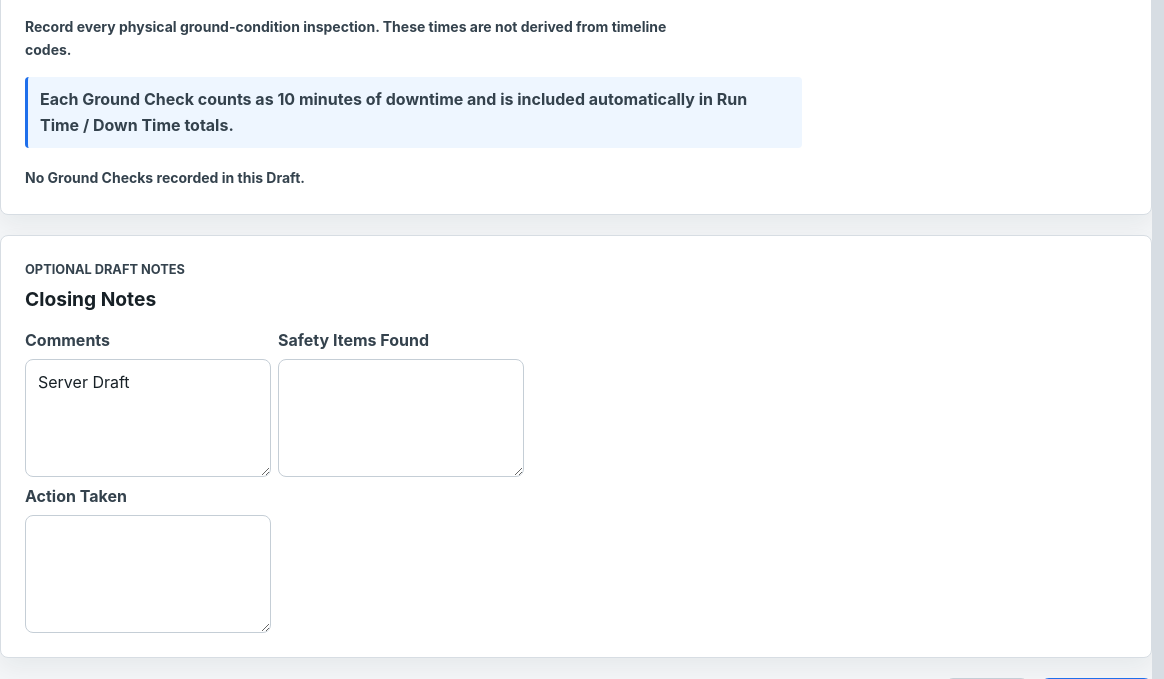
Scenario: DDR autosave and local recovery › debounces a valid server autosave and reports success
(page scrolled)
Replace the text in the text box labelled "Comments" with "Changed once": (148, 418) [25,359,271,477]
Wait 2000 ms
(page scrolled)
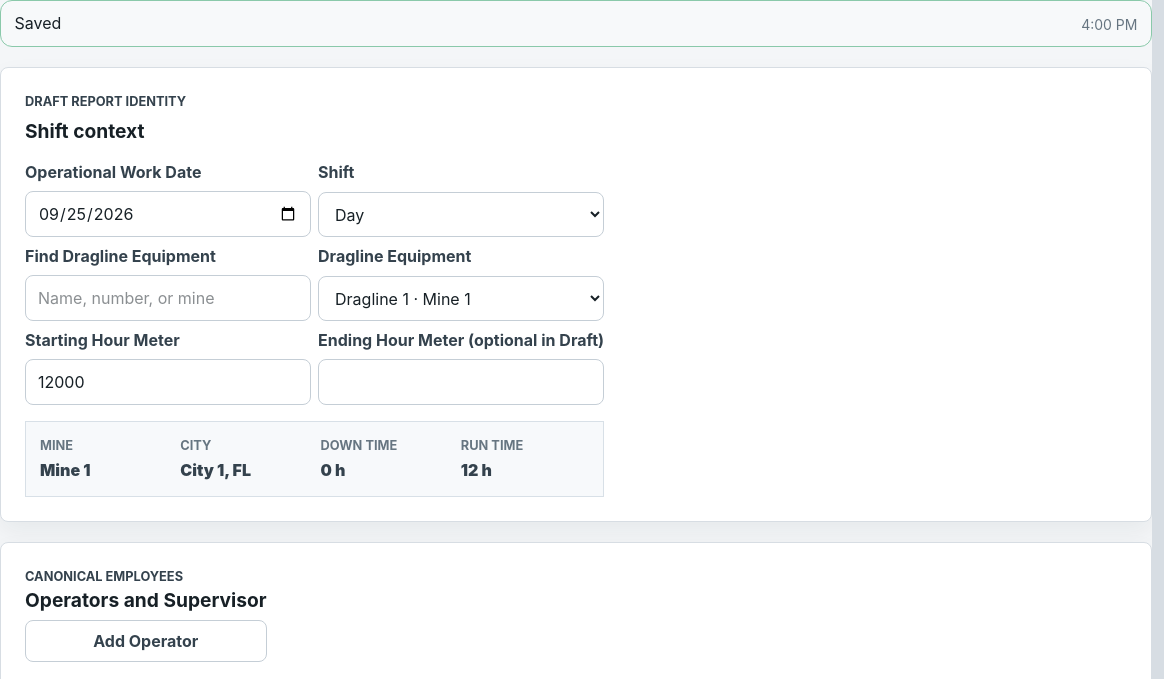
Now the text "Saved" is shown, box [15,11,61,35]
